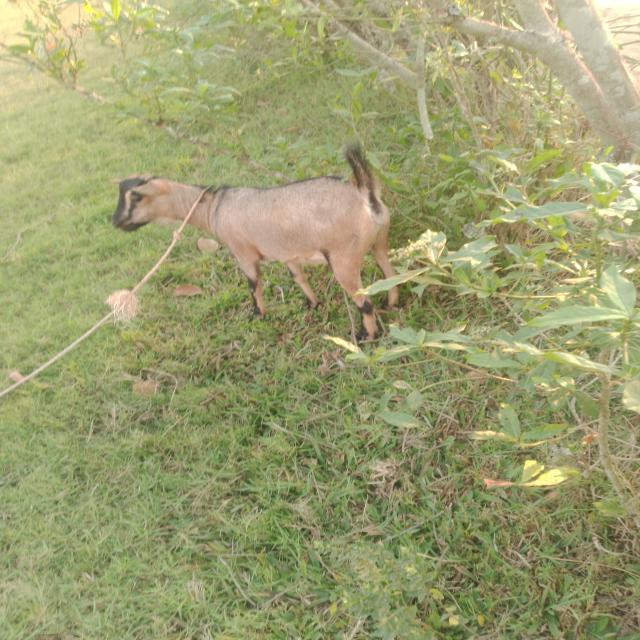goat: (93, 116, 425, 355)
